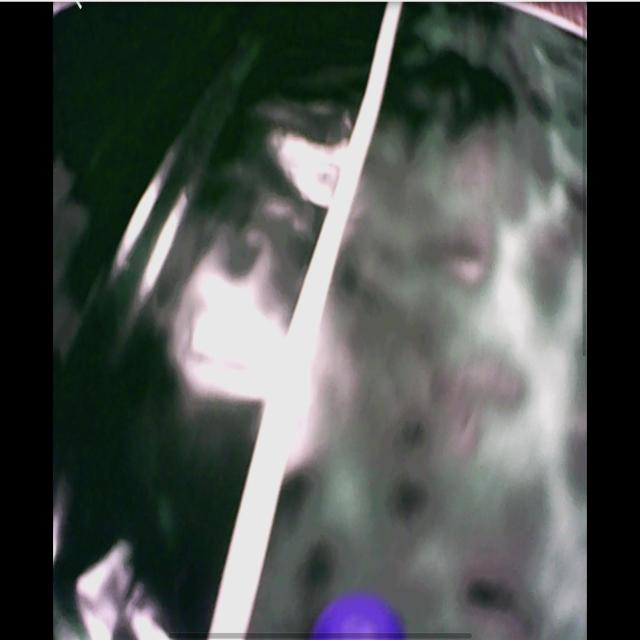ball: (312, 598, 403, 640)
